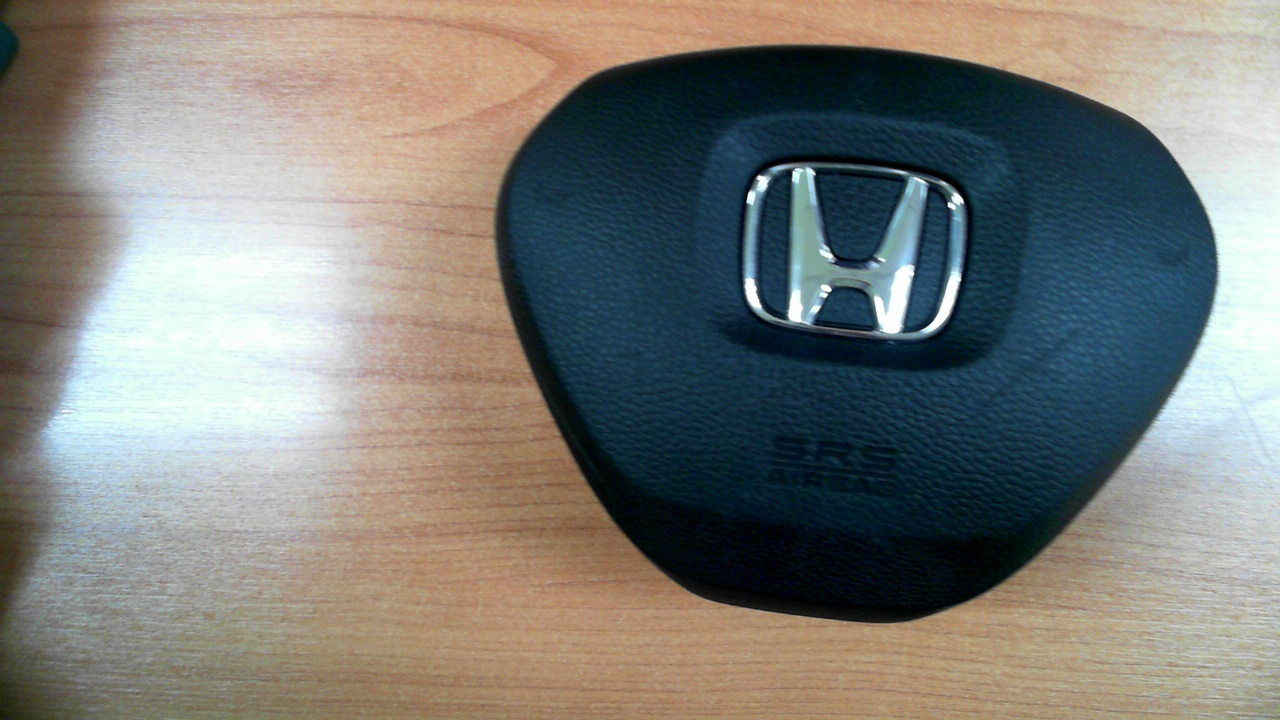Airbag: (495, 45, 1218, 625)
Honda: (743, 162, 967, 340)
